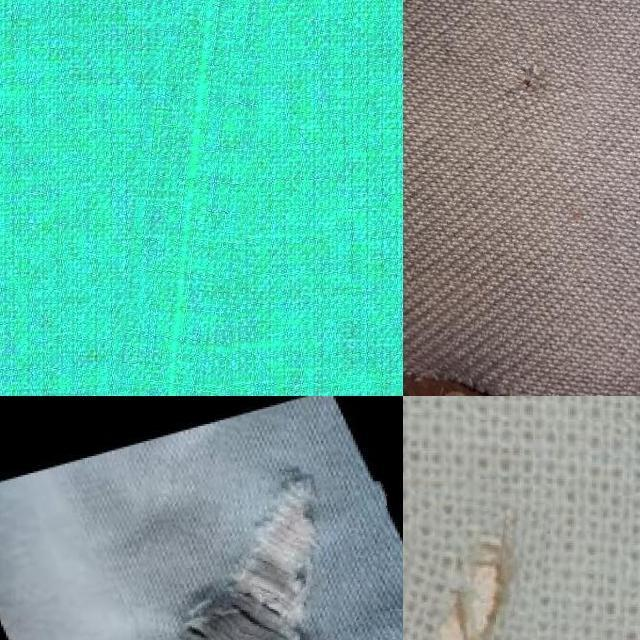other: (128, 462, 382, 640), (403, 492, 545, 640), (476, 6, 594, 146)
stains: (128, 0, 274, 396)
